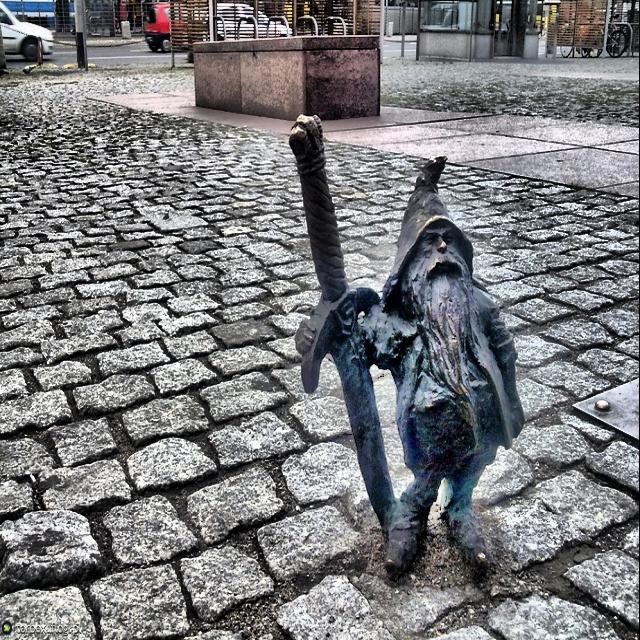Giermek_Grun-Waldek: (288, 116, 527, 590)
